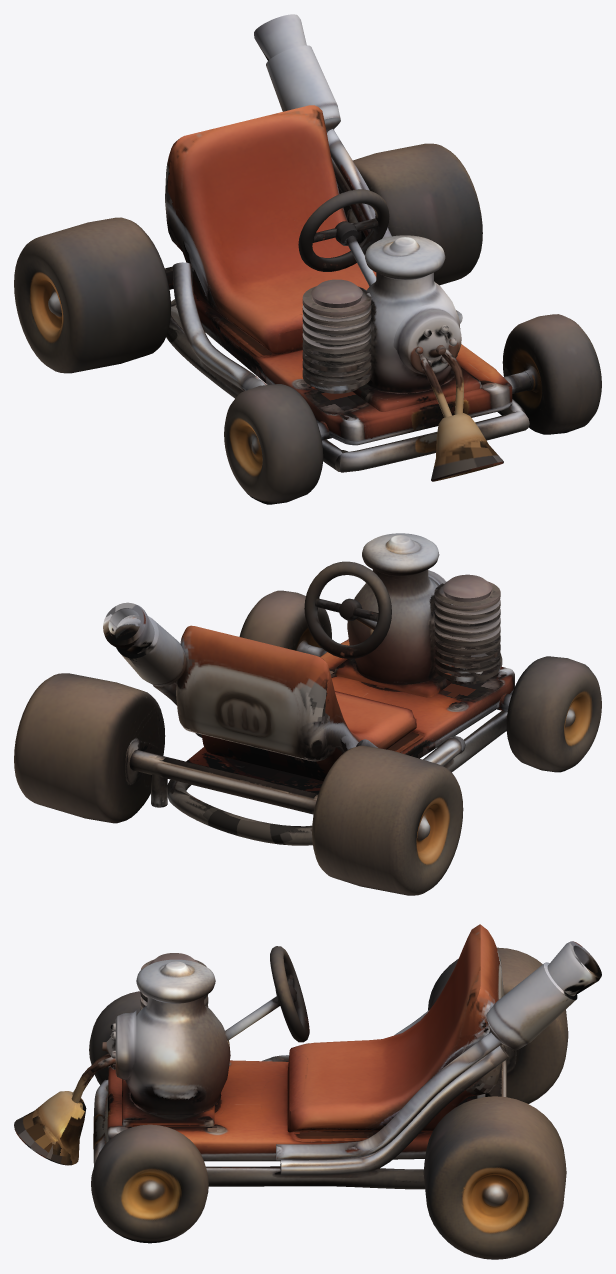
Rendered from kart.glb.
3 views of the same model, one above another, from view 1: azimuth 30°, elevation 25°; view 2: azimuth 150°, elevation 25°; view 3: azimuth 270°, elevation 25° (orthographic). The views are drawn at different scales.
Parts seen in each view (by area): view 1: body, wheel_RR, wheel_RL, wheel_FR, wheel_FL, steering_wheel; view 2: body, wheel_RR, wheel_RL, wheel_FR, steering_wheel, wheel_FL; view 3: body, wheel_RL, wheel_FL, wheel_RR, steering_wheel, wheel_FR.
Boxes of the visible parts, x1,y1,x2,y2 form: body: (164,14,530,481); wheel_RR: (14,217,170,373); wheel_RL: (337,143,482,285); wheel_FR: (224,384,323,504); wheel_FL: (502,314,601,434); steering_wheel: (298,189,389,271); body: (103,533,514,845); wheel_RR: (312,745,463,895); wheel_RL: (14,673,165,823); wheel_FR: (506,656,601,772); steering_wheel: (304,561,391,658); wheel_FL: (239,590,331,652); body: (14,924,601,1189); wheel_RL: (423,1096,566,1259); wheel_FL: (91,1124,208,1243); wheel_RR: (428,947,568,1103); steering_wheel: (270,946,309,1042); wheel_FR: (89,991,140,1084).
Size of the model in its own units: 1.21 by 0.7648 by 1.52.
1 material, 1 textured.
